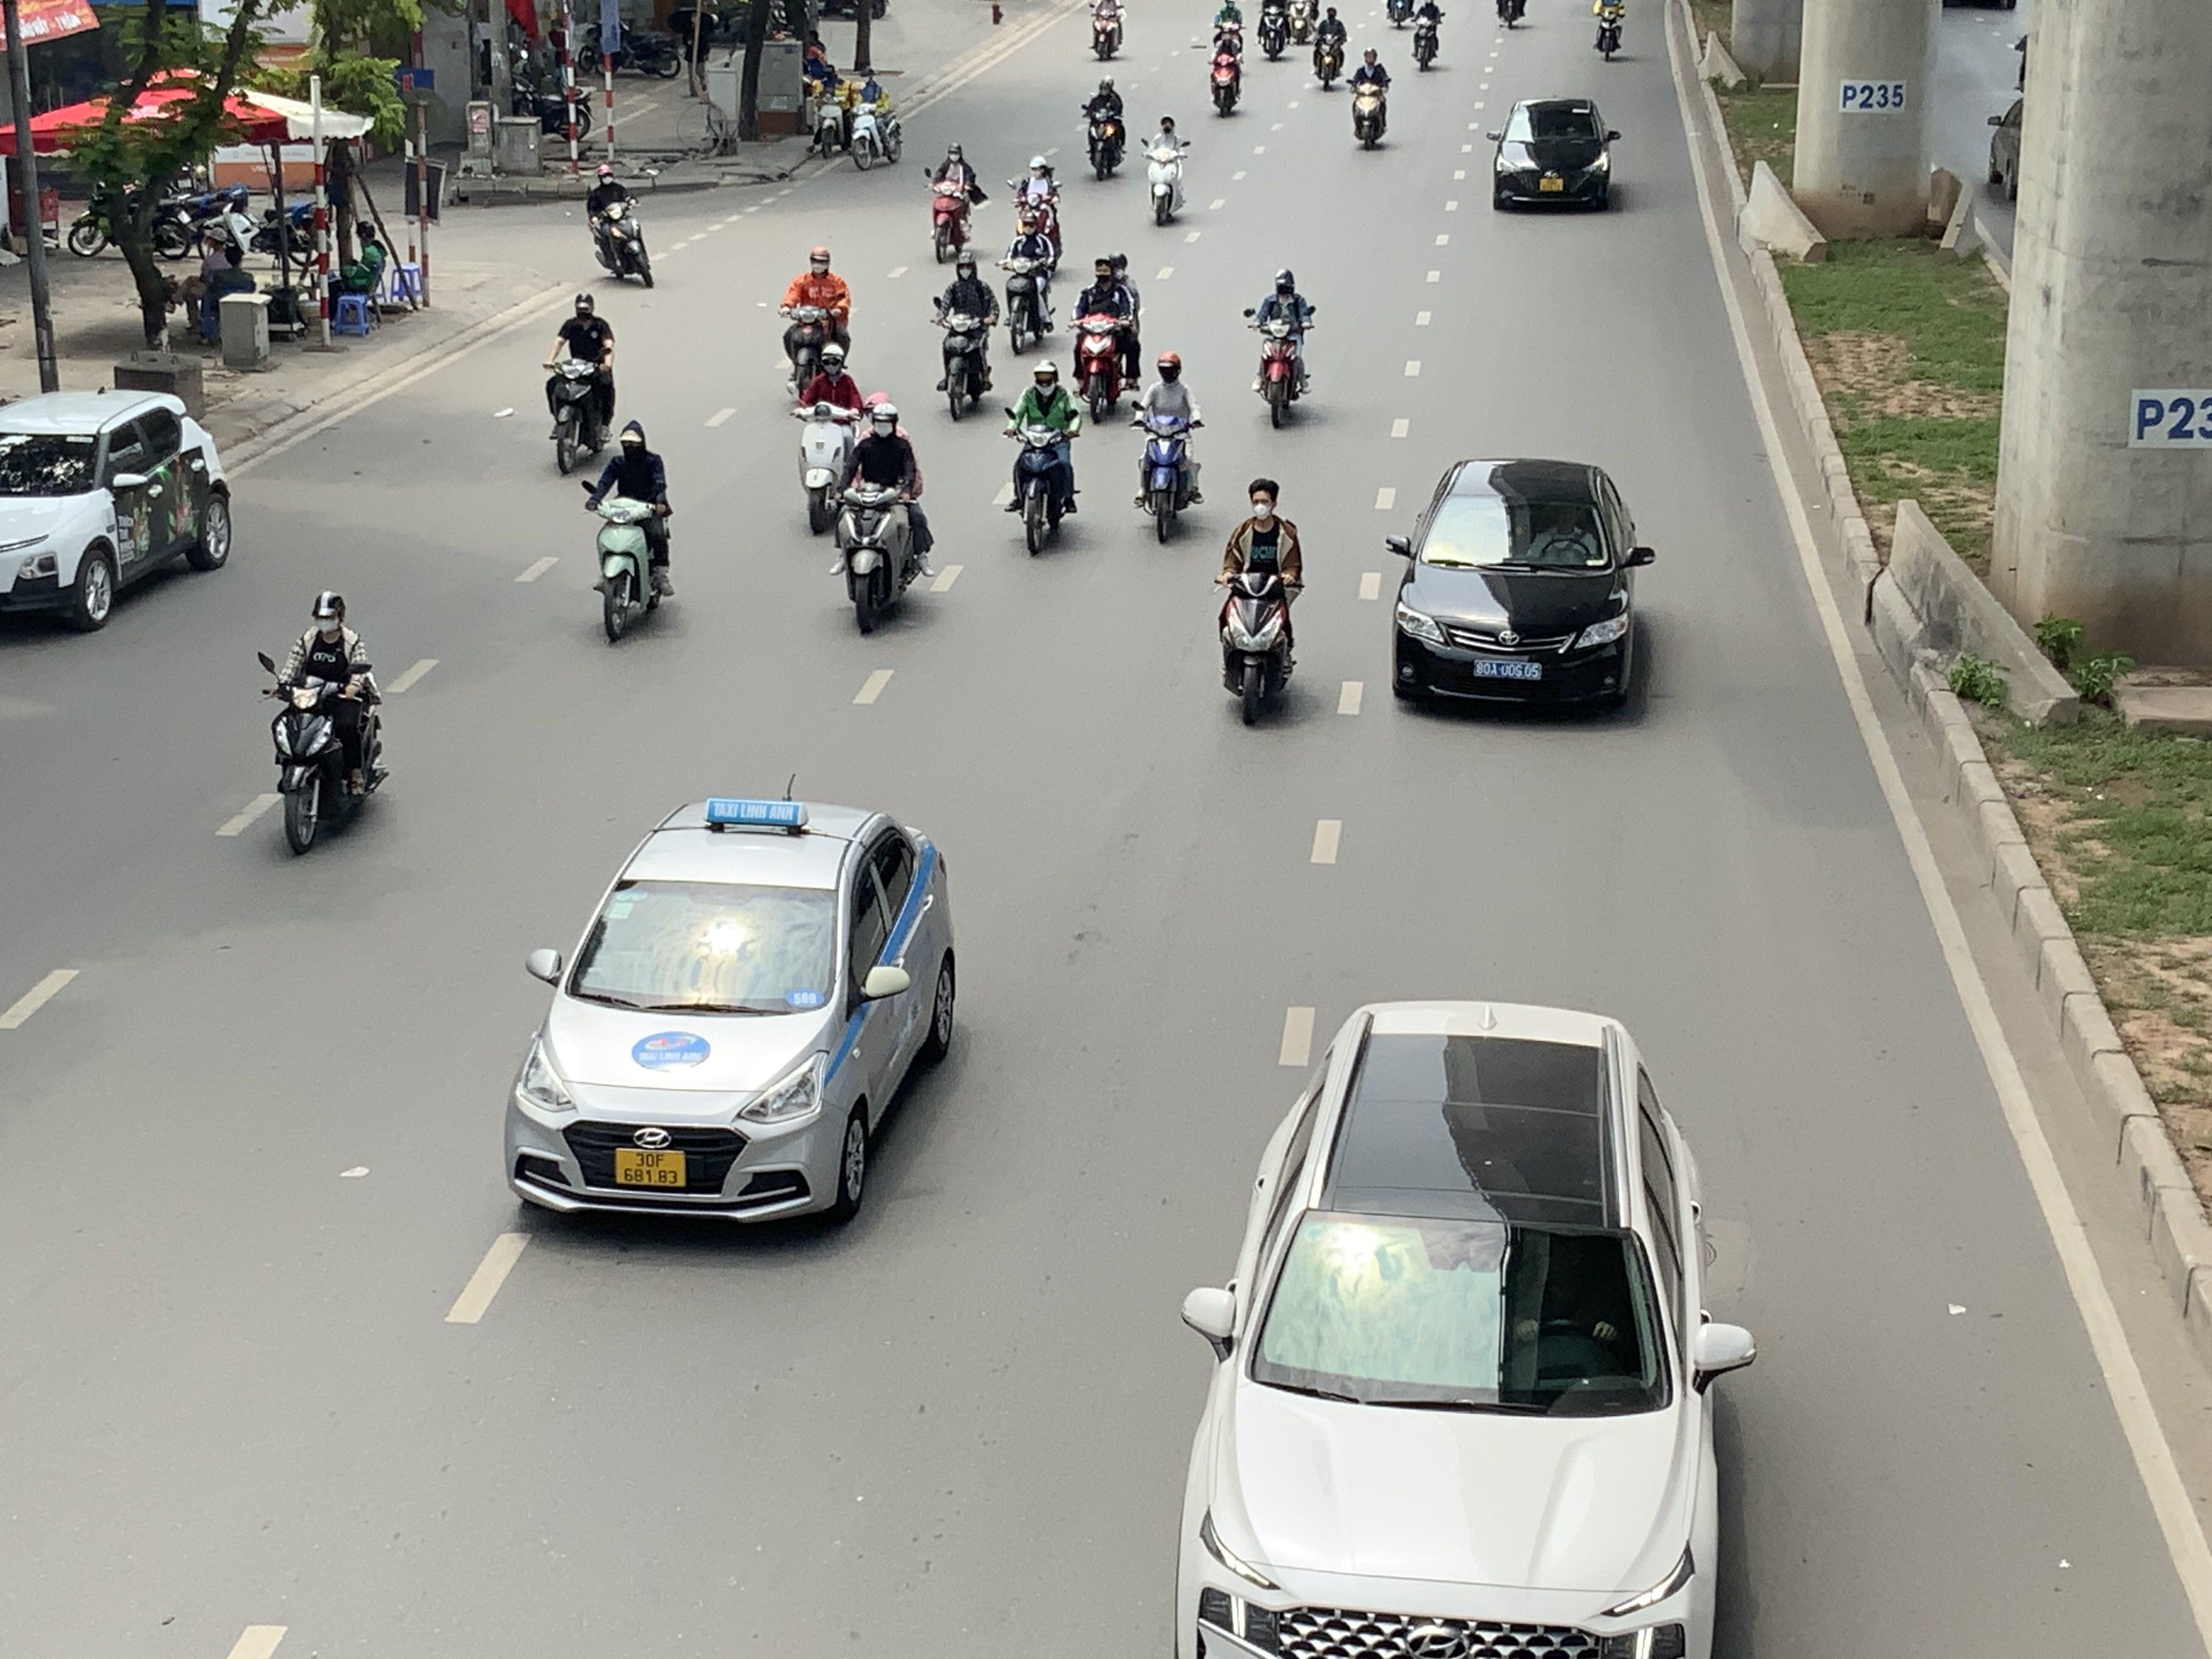BSD: (1474, 660, 1541, 680)
BSV: (615, 1150, 686, 1187)
car: (1169, 999, 1756, 1659), (502, 796, 961, 1236), (1383, 457, 1658, 718), (0, 389, 233, 634), (1487, 96, 1620, 213)
motorbike: (260, 591, 387, 857), (833, 399, 932, 636), (1216, 479, 1303, 728), (585, 418, 676, 645), (1001, 359, 1082, 558), (794, 342, 876, 533), (1134, 352, 1205, 545), (543, 291, 618, 474), (1071, 251, 1144, 420), (932, 254, 998, 422), (780, 246, 853, 394), (1249, 268, 1313, 430), (1000, 211, 1059, 356), (587, 162, 653, 286), (927, 141, 984, 263), (1008, 153, 1064, 265), (848, 70, 902, 171), (1143, 115, 1191, 227), (1082, 75, 1129, 181), (1348, 47, 1392, 152), (806, 73, 853, 160), (1207, 19, 1245, 117), (1310, 2, 1350, 92), (1087, 0, 1127, 61), (1411, 0, 1444, 71), (1256, 0, 1292, 61), (1592, 0, 1629, 59)
